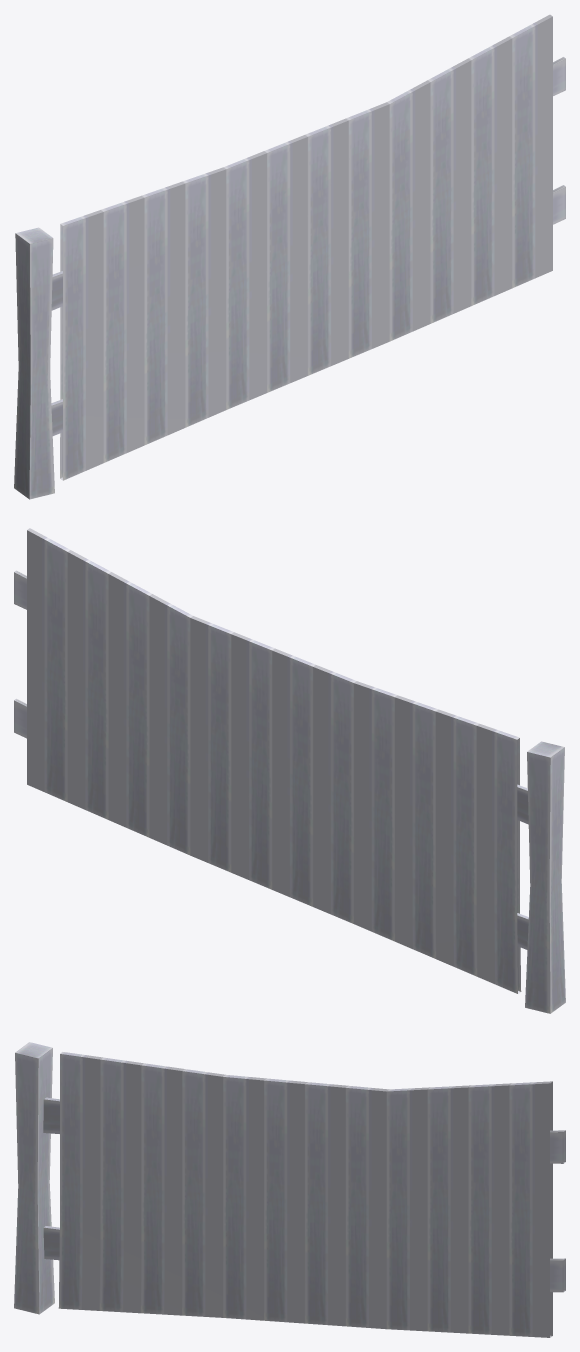
The model's file is INST_HTOWN_FENCEWHT10DEG.fbx.
3 renders of one model, top to bottom at view 1: azimuth 30°, elevation 25°; view 2: azimuth 150°, elevation 25°; view 3: azimuth 330°, elevation 25°, orthographic.
Visible parts, largest first — view 1: INST_HTOWN_FENCEWHT10DEG; view 2: INST_HTOWN_FENCEWHT10DEG; view 3: INST_HTOWN_FENCEWHT10DEG.
Part boxes in pixels (x1,y1,x2,y2): INST_HTOWN_FENCEWHT10DEG: [14, 14, 565, 499]; INST_HTOWN_FENCEWHT10DEG: [14, 528, 565, 1013]; INST_HTOWN_FENCEWHT10DEG: [14, 1042, 565, 1337].
Size of the model in its own units: 30448 by 18729 by 1509.
Materials: 2 (2 with a texture image).
